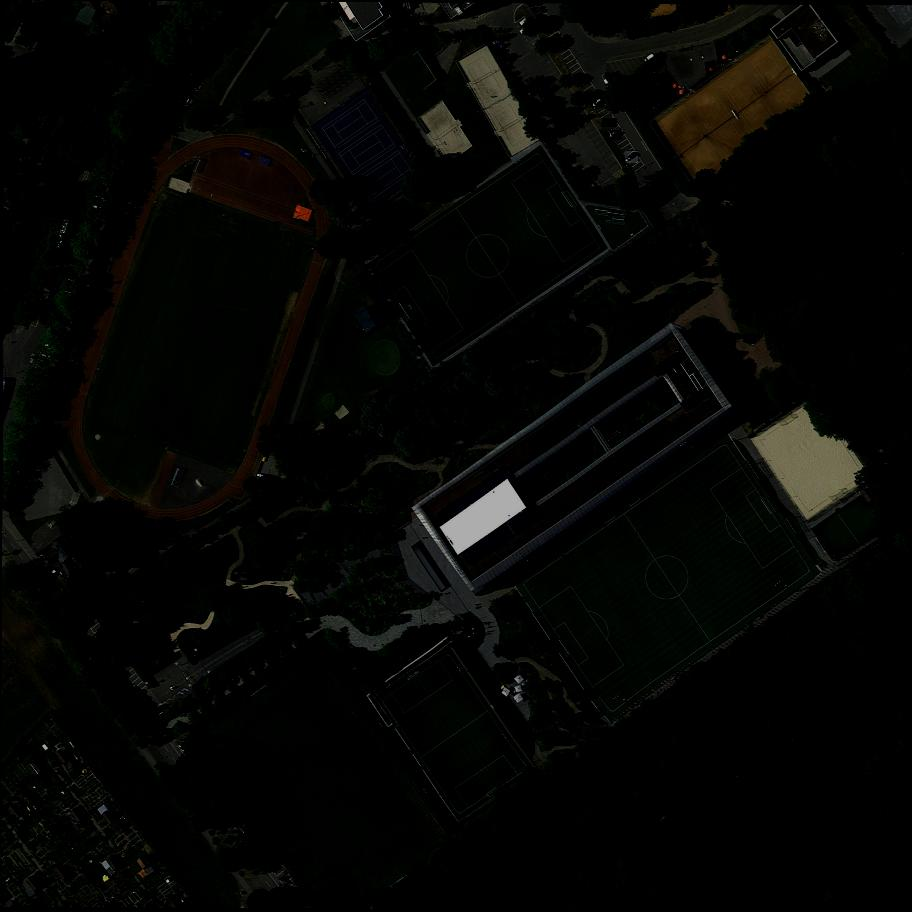small-vehicle: (626, 151, 640, 164), (591, 99, 604, 111), (602, 118, 617, 127), (610, 130, 623, 140), (542, 22, 553, 33), (527, 85, 537, 97), (498, 41, 508, 50), (536, 14, 545, 24), (493, 38, 503, 46)
